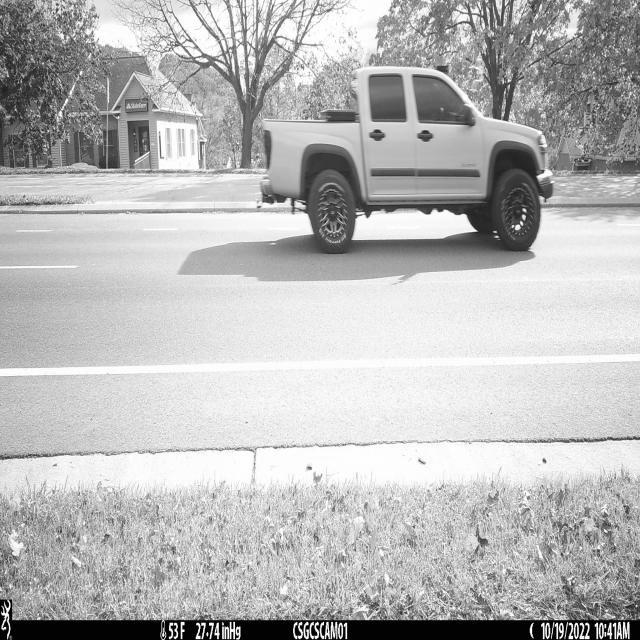Pickup: (257, 66, 555, 255)
